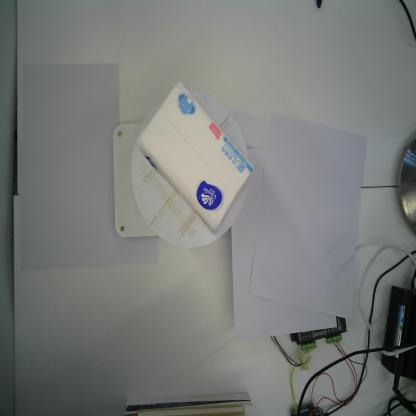Tissue: (135, 80, 256, 235)
